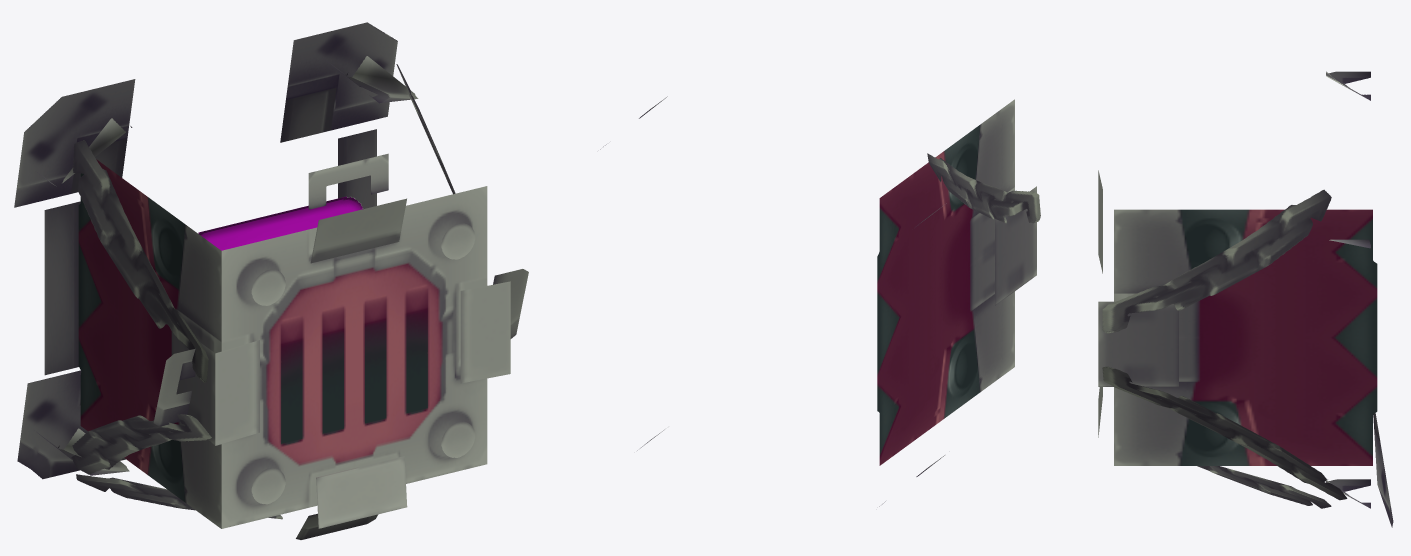
The model's file is model_monsterblock.glb.
The picture shows the model from 3 angles, left to right: view 1: azimuth 30°, elevation 25°; view 2: azimuth 150°, elevation 25°; view 3: azimuth 270°, elevation 25°; orthographic projection. The views are drawn at different scales.
Visible parts, largest first — view 1: monster.model-Mesh[0], pet.part_model-icon-Mesh[0]; view 2: monster.model-Mesh[0]; view 3: monster.model-Mesh[0].
Part boxes in pixels (x1,y1,x2,y2): monster.model-Mesh[0]: (14,22,528,539); pet.part_model-icon-Mesh[0]: (198,196,363,250); monster.model-Mesh[0]: (600,96,1040,506); monster.model-Mesh[0]: (1098,71,1393,527).
Bounding box in the file's own units: 1.12 × 1.13 × 0.8811.
2 materials, 2 textured.
